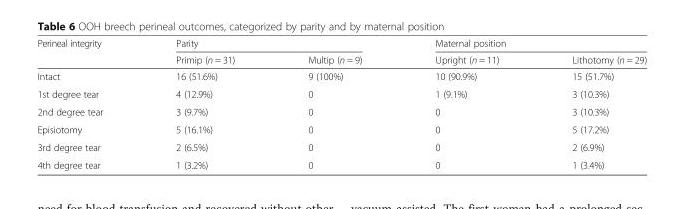table: (36, 37, 646, 170)
table column: (398, 37, 534, 170), (138, 37, 270, 170), (270, 37, 398, 170), (534, 37, 646, 170), (36, 37, 138, 170)
table column header: (36, 37, 646, 67)
table row: (36, 84, 646, 102), (36, 102, 646, 120), (36, 137, 646, 155), (36, 67, 646, 84), (36, 120, 646, 137), (36, 51, 646, 67), (36, 155, 646, 170), (36, 37, 646, 51)
table spanning cell: (138, 37, 398, 51), (398, 37, 646, 51), (36, 37, 138, 67)
